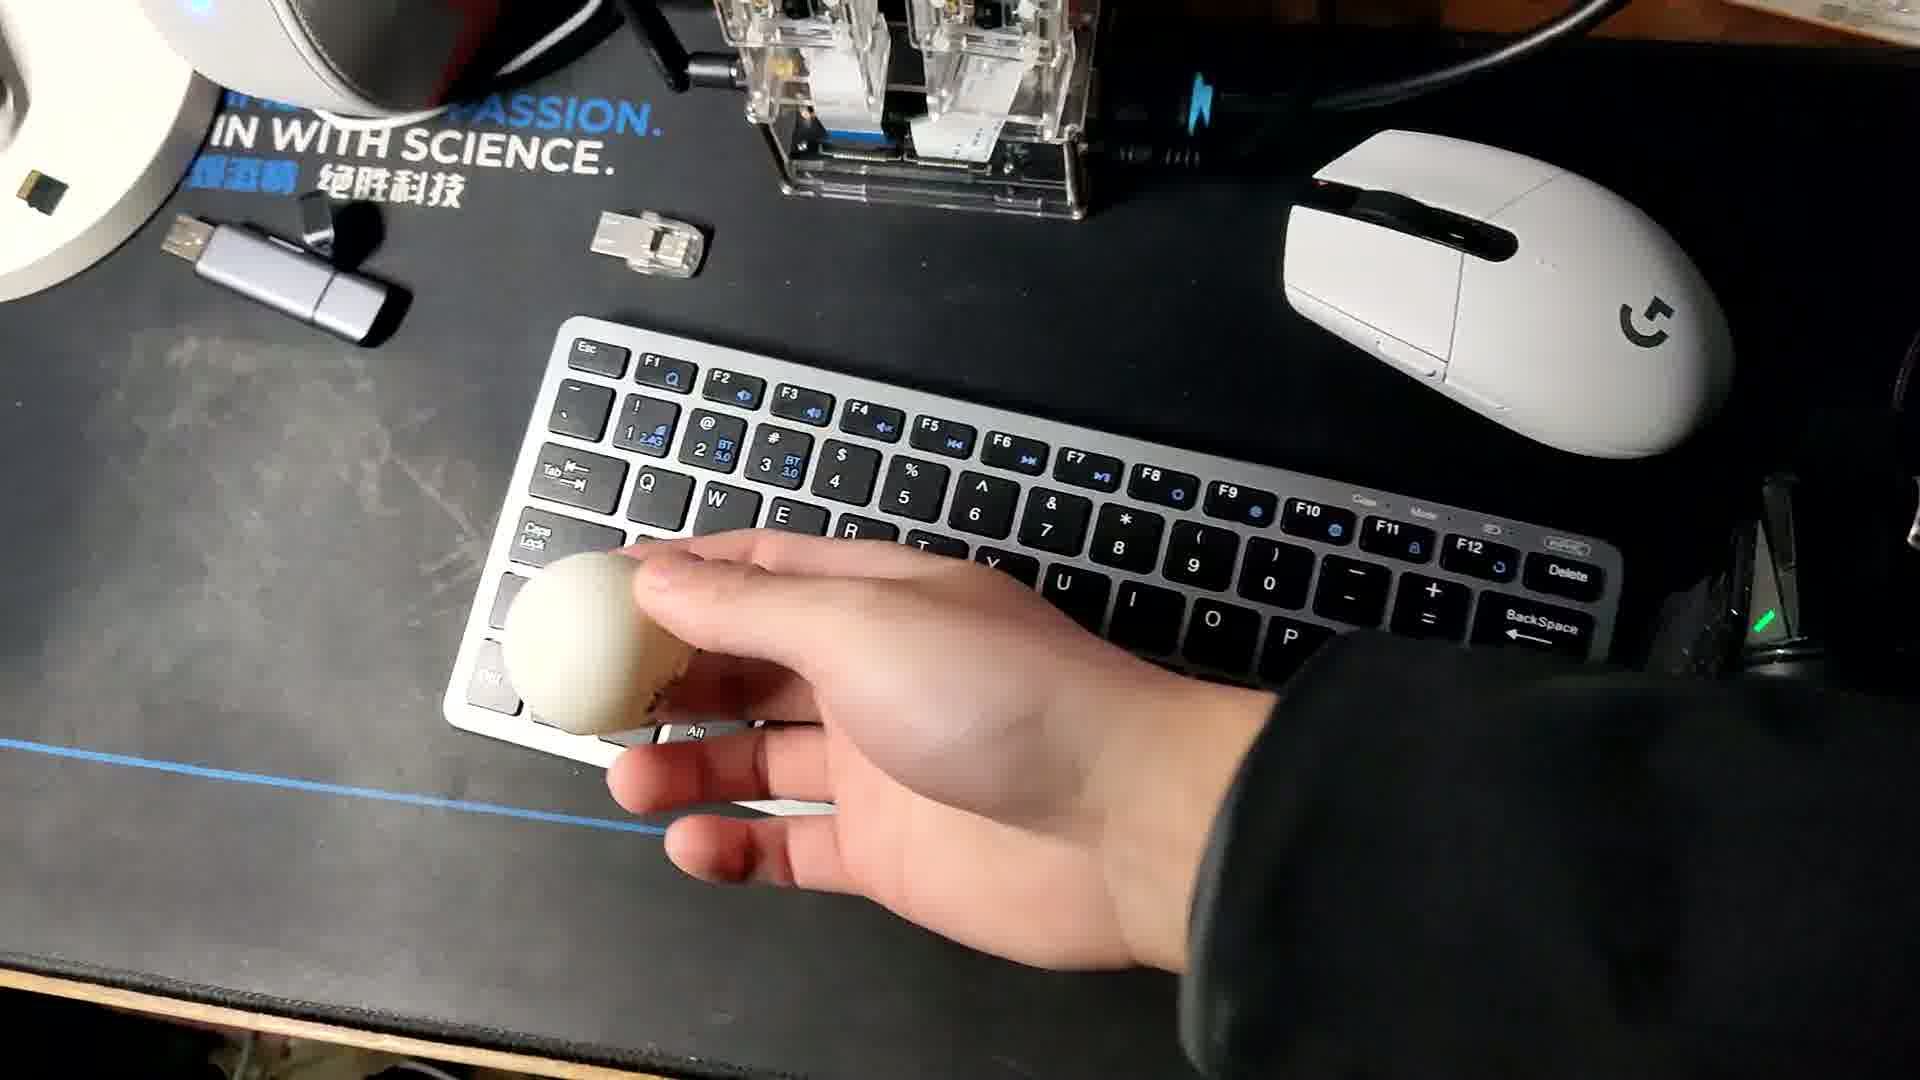Ball: (505, 550, 698, 738)
